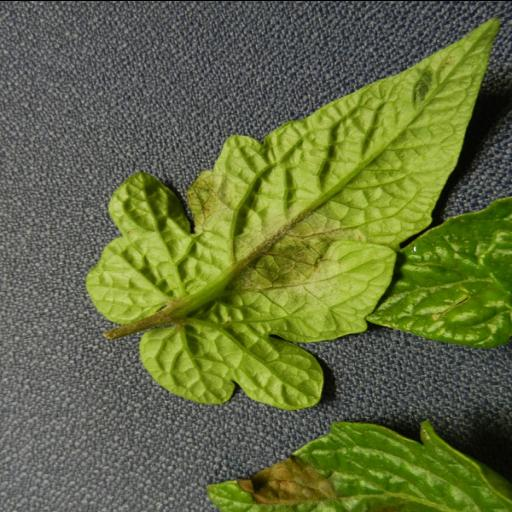Late Blight: (84, 20, 494, 410), (202, 419, 512, 512)
